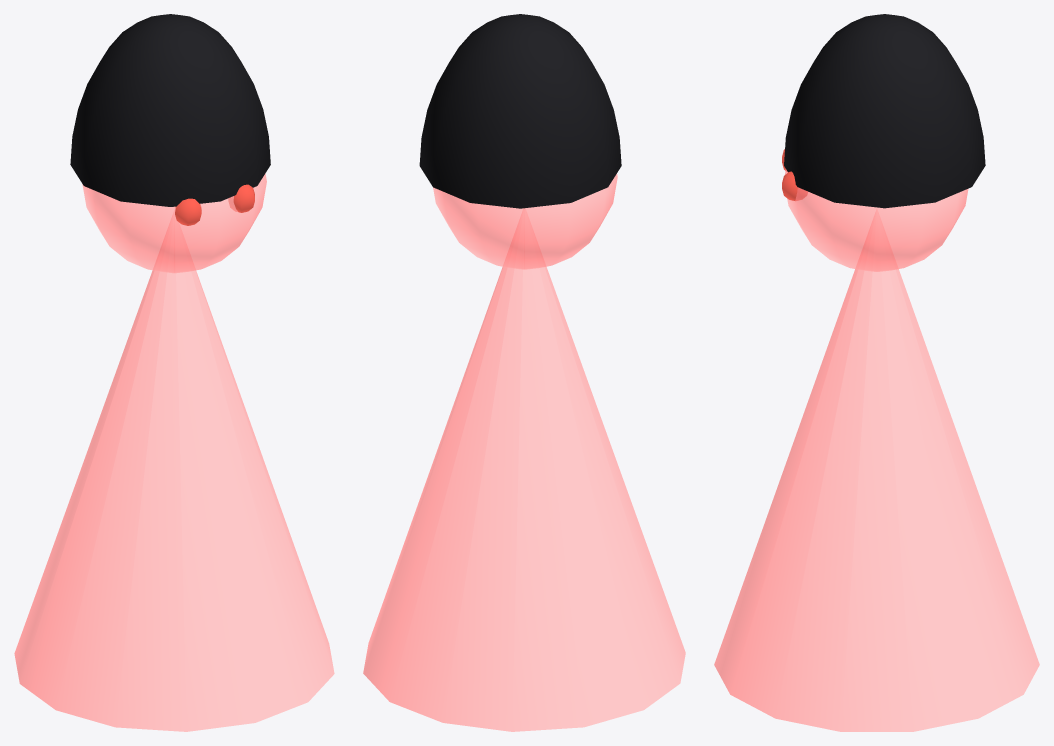
The model's file is phitaihong.glb.
3 views of the same model, side by side, from view 1: azimuth 30°, elevation 25°; view 2: azimuth 150°, elevation 25°; view 3: azimuth 270°, elevation 25° (orthographic).
Size of the model in its own units: 0.8189 by 1.84 by 0.84.
